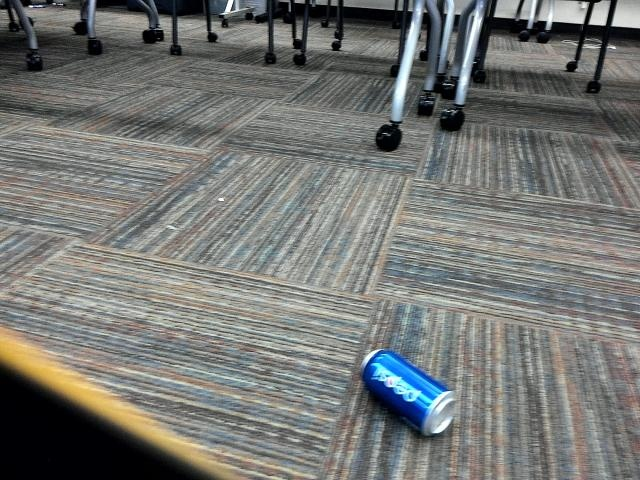can: (346, 340, 461, 436)
